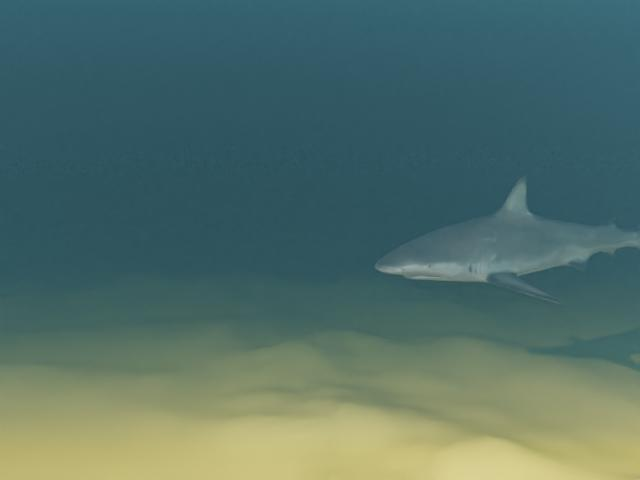Carribean Shark.001: (374, 175, 640, 304)
